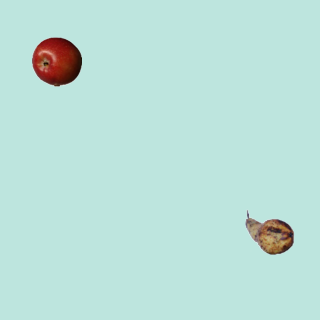Apple Braeburn: (31, 36, 81, 86)
Pear Abate: (244, 207, 294, 257)
